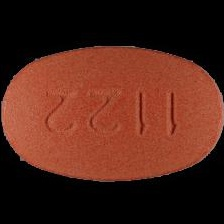66336-586: (0, 0, 224, 224)
